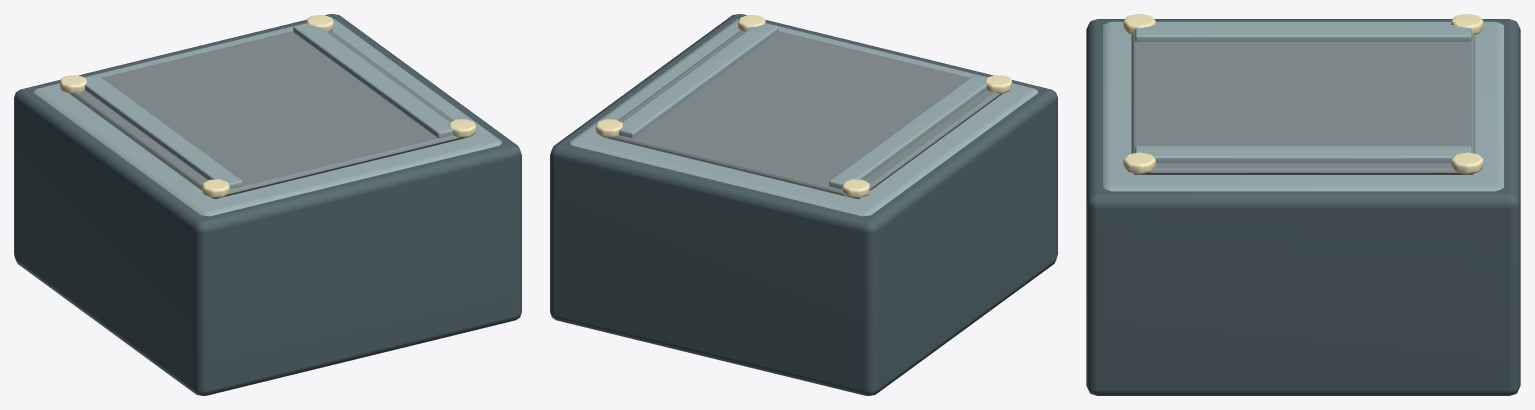
File: Steel.fbx
3 views of the same model, side by side, from view 1: azimuth 30°, elevation 25°; view 2: azimuth 150°, elevation 25°; view 3: azimuth 270°, elevation 25° (orthographic). The views are drawn at different scales.
Parts seen in each view (by area): view 1: Concrete core, Recessed top, Steel casing, Reinforcement.001, Reinforcement, Rivet; view 2: Concrete core, Recessed top, Steel casing, Reinforcement.001, Reinforcement, Rivet.001; view 3: Concrete core, Recessed top, Steel casing, Reinforcement, Reinforcement.001, Rivet.002, Rivet.003, Rivet, Rivet.001.
Part boxes in pixels (left/top/right/bottom): Concrete core: left=14, top=14, right=521, bottom=395; Recessed top: left=69, top=30, right=467, bottom=198; Steel casing: left=34, top=19, right=502, bottom=216; Reinforcement.001: left=293, top=23, right=452, bottom=138; Reinforcement: left=85, top=74, right=242, bottom=189; Rivet: left=202, top=179, right=229, bottom=197; Concrete core: left=550, top=14, right=1057, bottom=395; Recessed top: left=604, top=30, right=1002, bottom=198; Steel casing: left=569, top=19, right=1037, bottom=216; Reinforcement.001: left=619, top=23, right=778, bottom=138; Reinforcement: left=829, top=74, right=986, bottom=189; Rivet.001: left=842, top=179, right=869, bottom=197; Concrete core: left=1086, top=19, right=1520, bottom=395; Recessed top: left=1131, top=34, right=1475, bottom=174; Steel casing: left=1103, top=21, right=1503, bottom=191; Reinforcement: left=1135, top=25, right=1471, bottom=41; Reinforcement.001: left=1135, top=146, right=1471, bottom=162; Rivet.002: left=1123, top=152, right=1155, bottom=174; Rivet.003: left=1451, top=152, right=1483, bottom=174; Rivet: left=1123, top=14, right=1155, bottom=34; Rivet.001: left=1451, top=14, right=1483, bottom=34.
Bounding box in the file's own units: 191 × 106 × 191.
